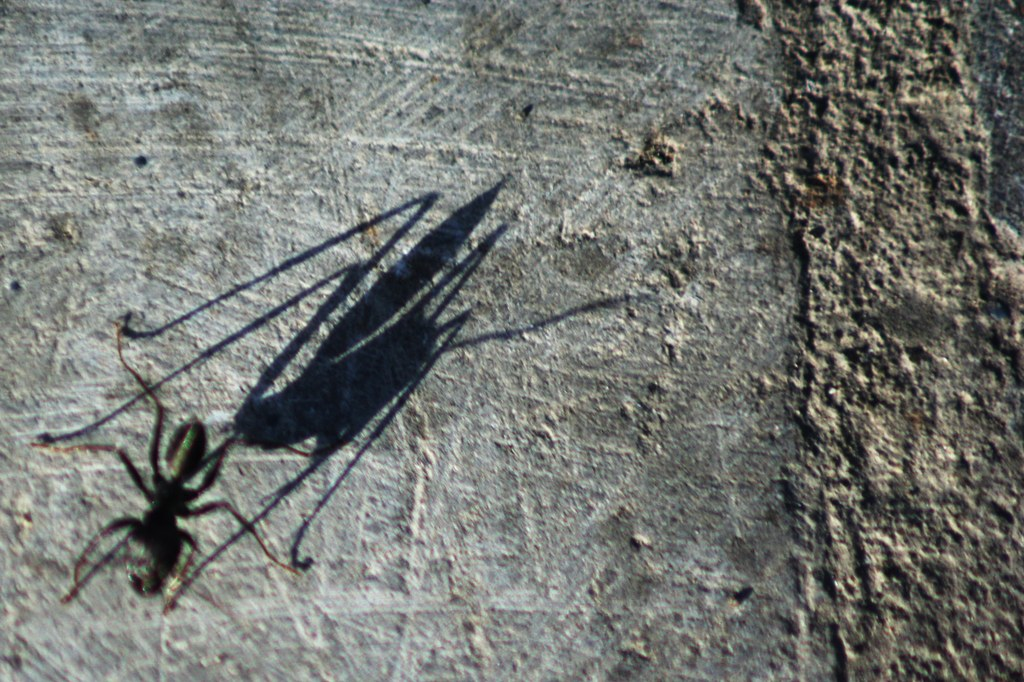insect: (20, 319, 304, 626)
